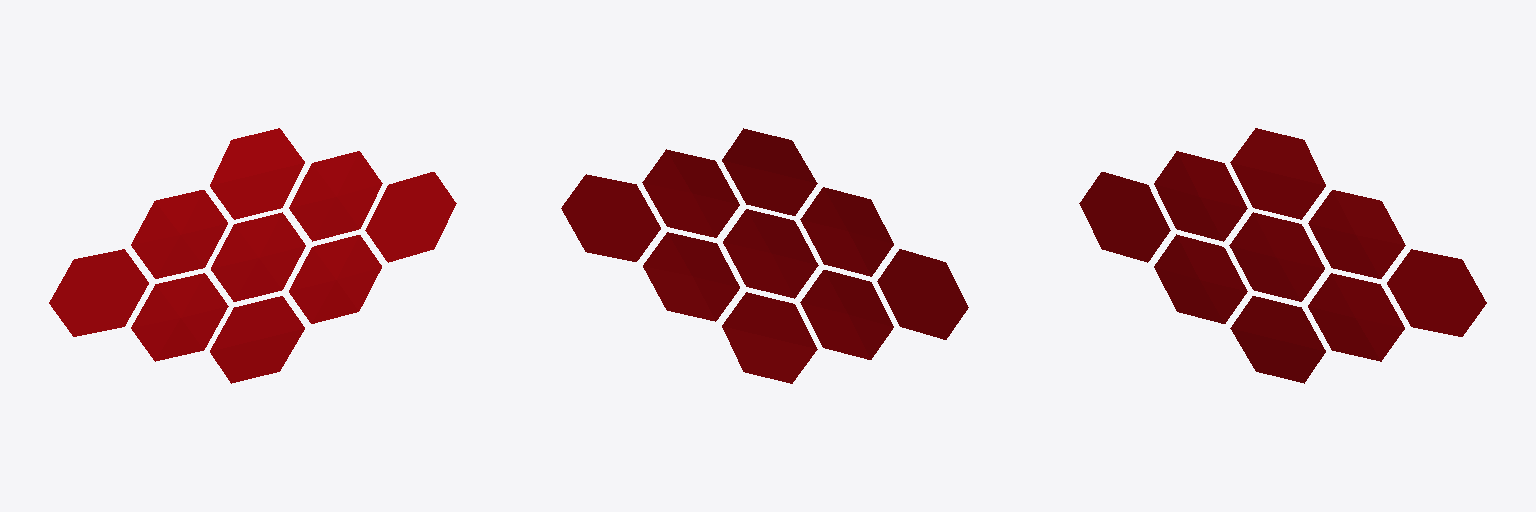
Rendered from ShieldBad.obj.
3 views of the same model, side by side, from view 1: azimuth 30°, elevation 25°; view 2: azimuth 150°, elevation 25°; view 3: azimuth 330°, elevation 25° (orthographic).
Parts seen in each view (by area): view 1: polygon0; view 2: polygon0; view 3: polygon0.
Part boxes in pixels (bbox=[...]): polygon0: bbox=[49, 128, 456, 383]; polygon0: bbox=[561, 128, 968, 383]; polygon0: bbox=[1079, 128, 1486, 383].
Bounding box in the file's own units: 7.09 × 4.05 × 0.1918.